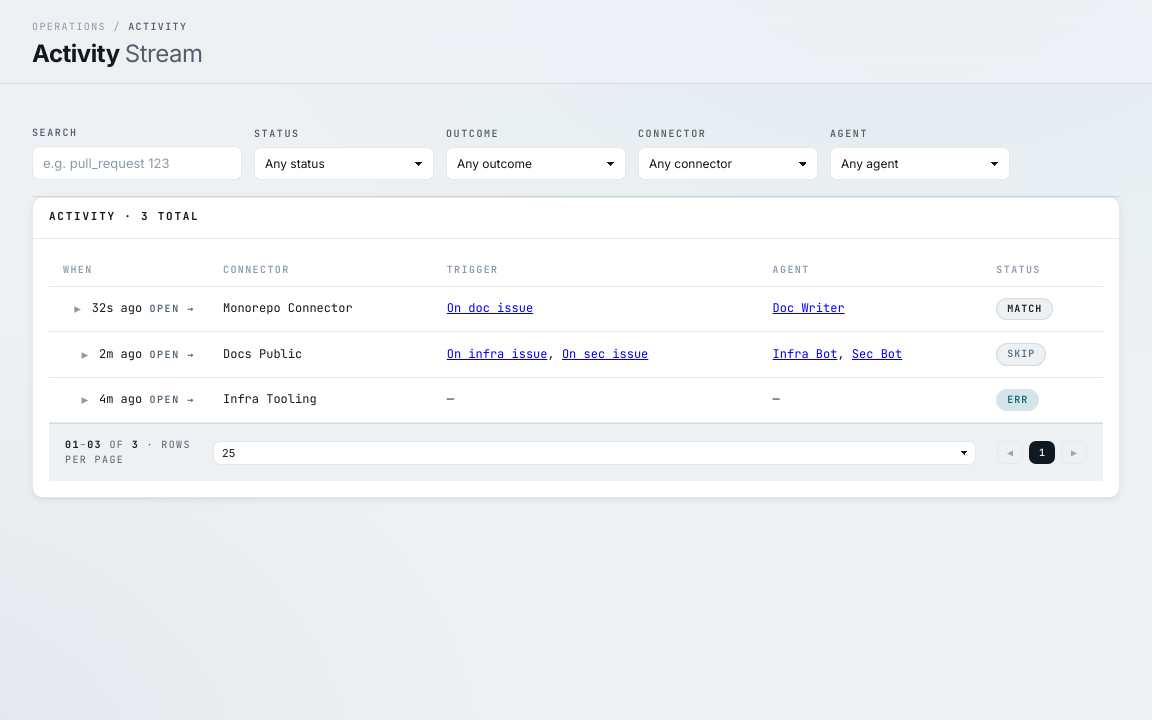
Test: Activity › search matches connector names and status
The image size is (1152, 720).
Expected: the link with aria-label "Open event e1" is shown, [49,286,1103,332]
Type "infra tooling" into the field named "search events" at (137, 163), box [32,146,242,180]
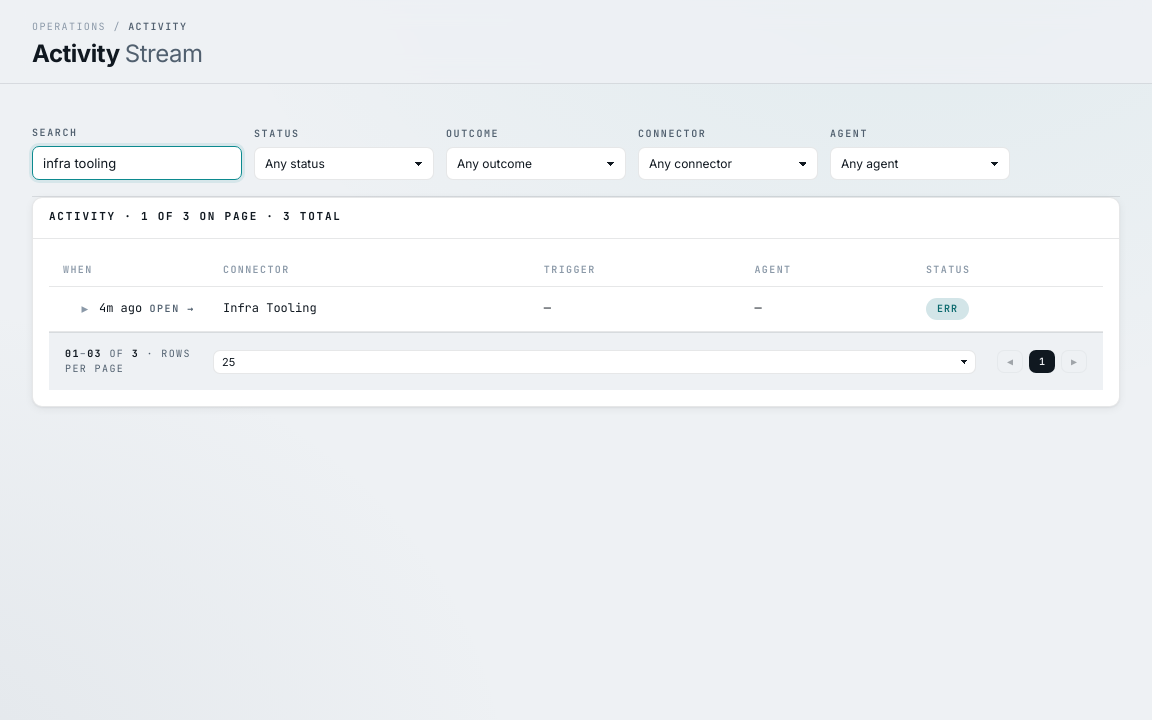
Expected: the table shows "Infra Tooling", [223,300,317,316]
Now the link "Monorepo Connector" no longer shows "Monorepo Connector"
